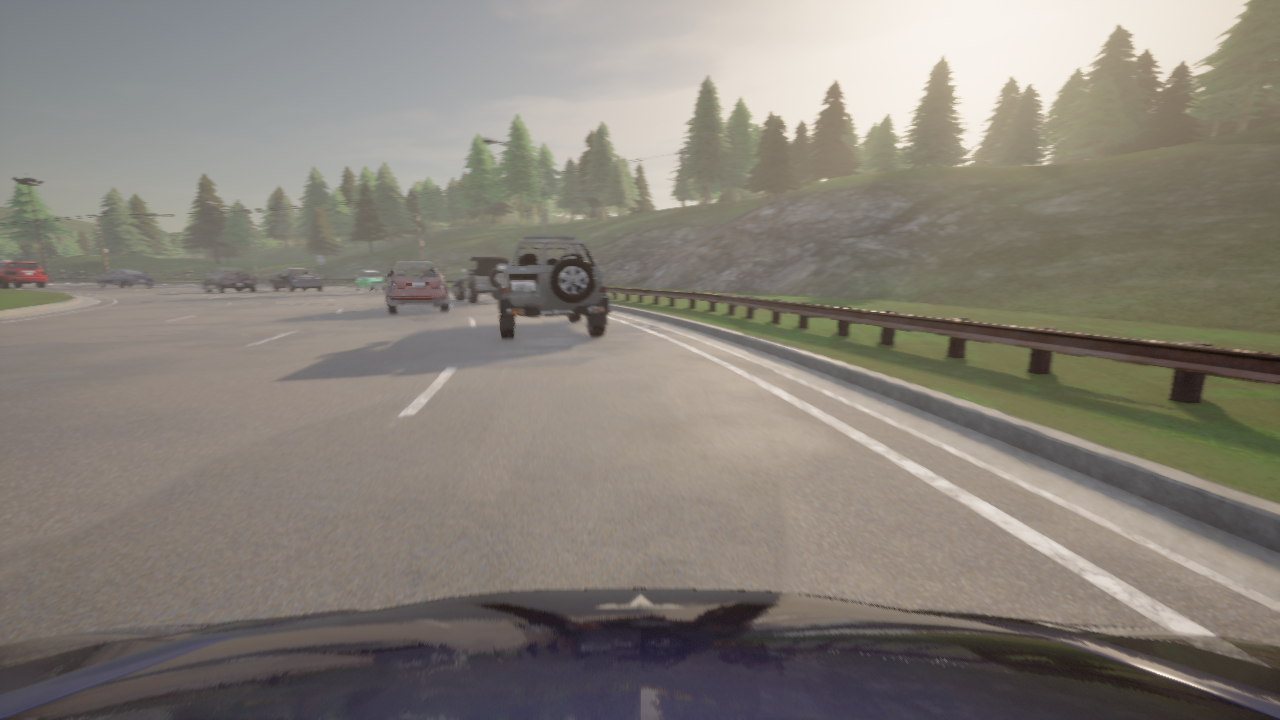cyclist: (0, 588, 1279, 719), (498, 235, 610, 339), (384, 261, 448, 313), (454, 255, 510, 303), (202, 268, 256, 293), (0, 261, 47, 288), (271, 268, 323, 291), (97, 269, 152, 287), (355, 270, 384, 290)
